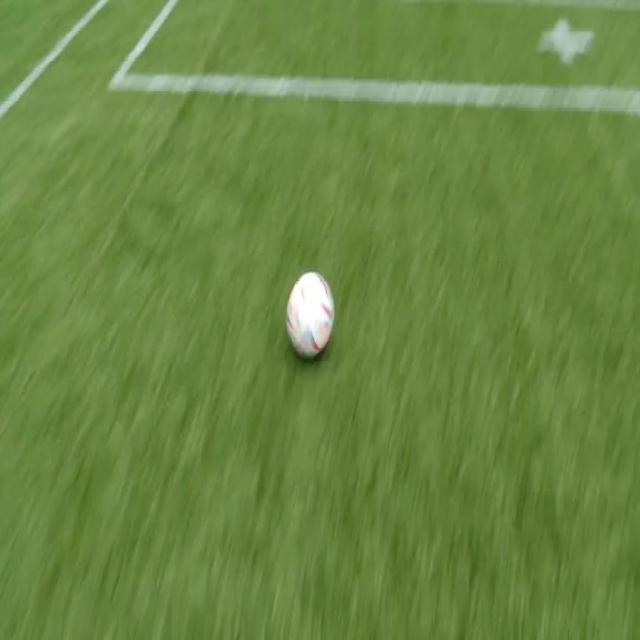ball: (286, 272, 334, 358)
